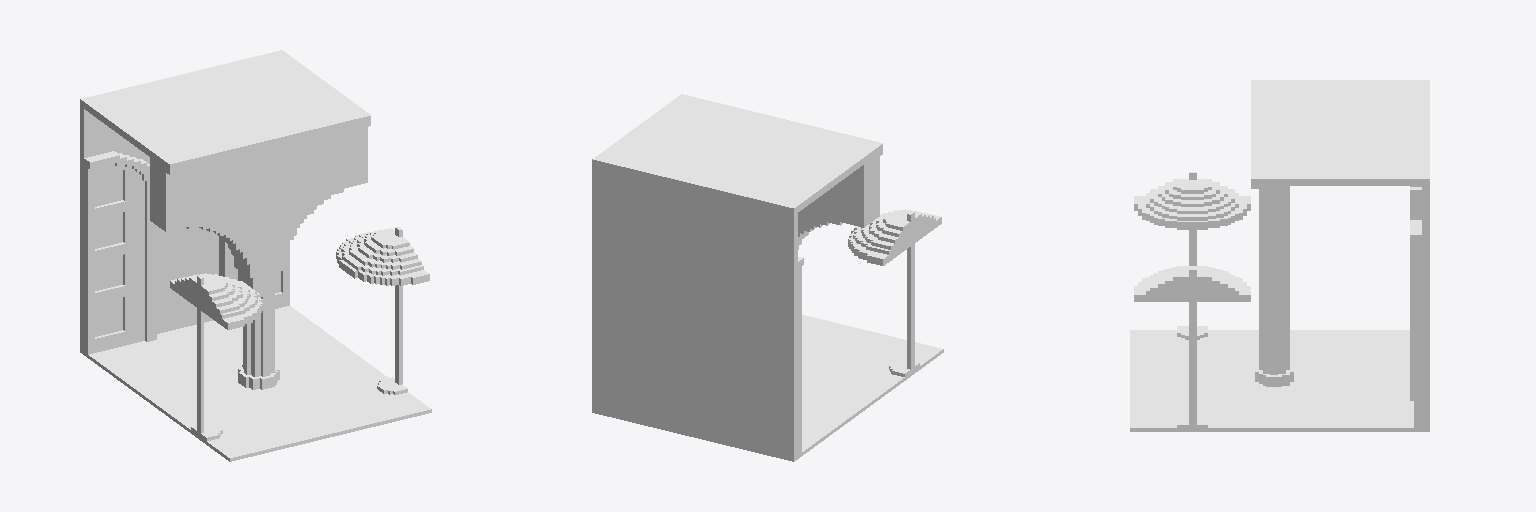
The model's file is portales_v02.obj.
3 views of the same model, side by side, from view 1: azimuth 30°, elevation 25°; view 2: azimuth 150°, elevation 25°; view 3: azimuth 270°, elevation 25° (orthographic).
Parts seen in each view (by area): view 1: object 1; view 2: object 1; view 3: object 1.
Part boxes in pixels (x1,y1,x2,y2): object 1: (80,50,431,461); object 1: (592,94,943,461); object 1: (1130,80,1429,431).
Bounding box in the file's own units: 6 × 7.2 × 7.7.